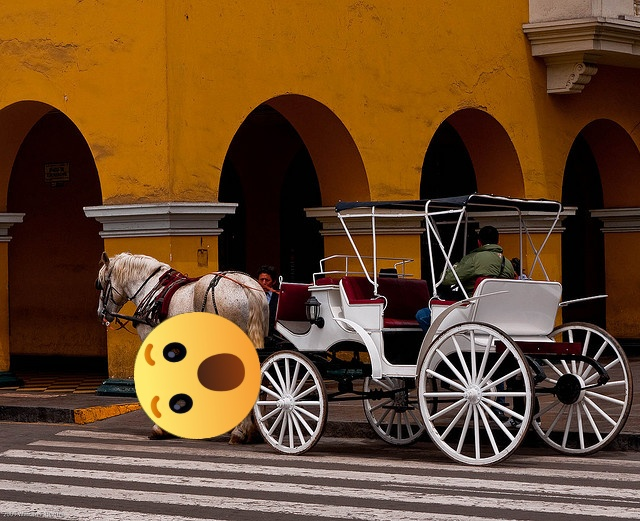wow: (134, 312, 261, 439)
